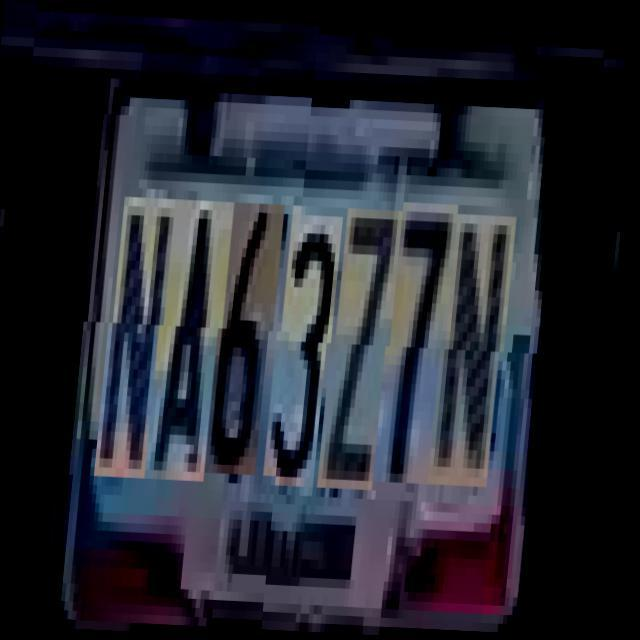3: (277, 202, 348, 474)
6: (218, 200, 289, 472)
7: (387, 188, 463, 471)
A: (158, 197, 238, 479)
N: (442, 200, 521, 472), (108, 195, 184, 477)
Z: (332, 195, 408, 477)
